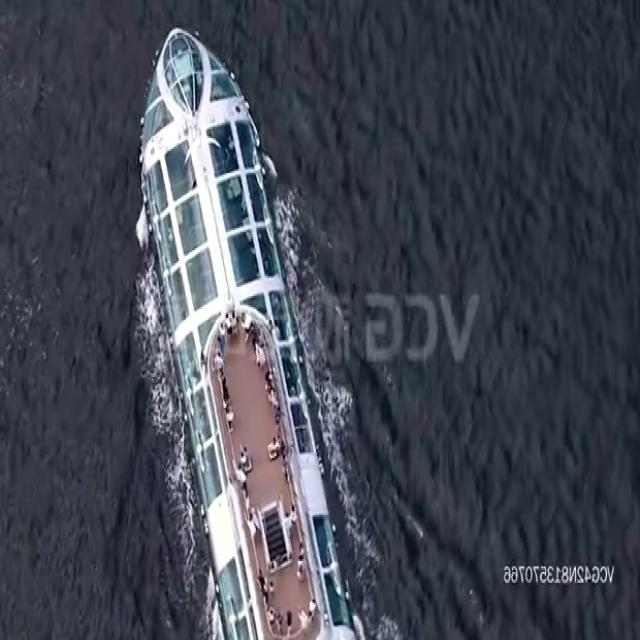passenger ship: (142, 11, 362, 640)
